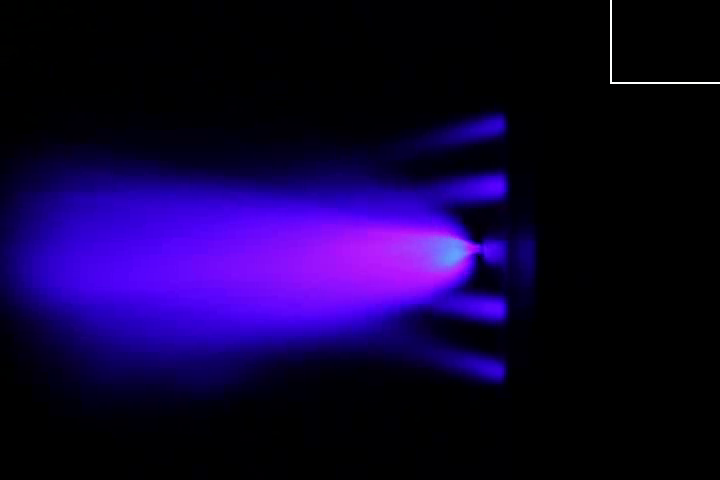burner cap: (476, 235, 512, 265)
pilot flame: (407, 336, 506, 386), (422, 170, 510, 206), (411, 114, 502, 146), (433, 292, 507, 326)
stable: (383, 216, 477, 289)
